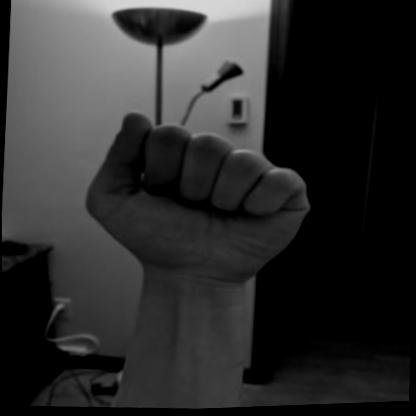A: (70, 92, 327, 305)
